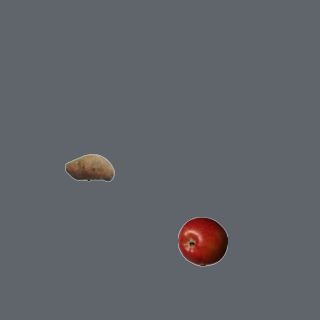Apple Braeburn: (177, 216, 227, 266)
Potato Sweet: (64, 142, 114, 192)
